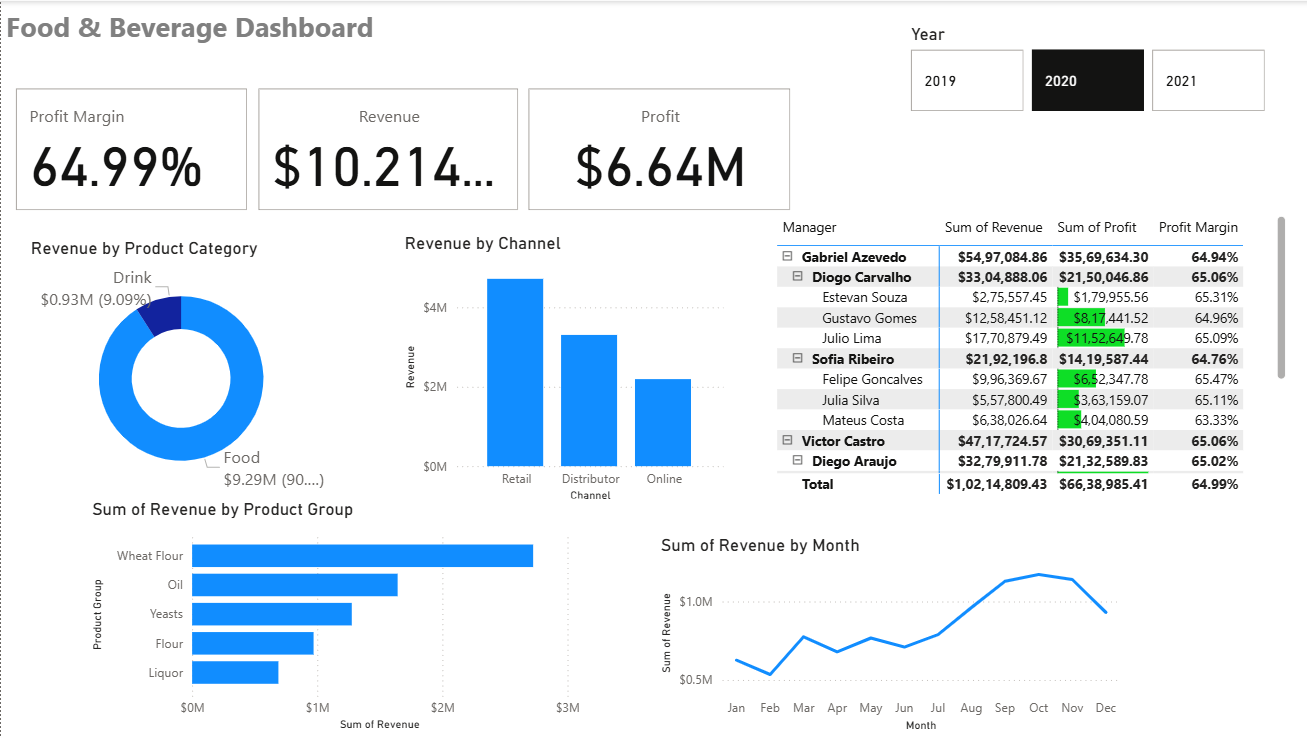

Layout of this report page (visuals, bound fields, positions):
{"tool":"powerbi","page":{"name":"Page 1","canvas":[1280,720],"ordinal":0},"visuals":[{"type":"cardVisual","fields":{"Data":["Sum(Sales.Revenue)"]},"box":[246.8,80.5,264.9,129.9],"z":0},{"type":"cardVisual","fields":{"Data":["Sum(Sales.Profit)"]},"box":[511.7,80.5,266.2,129.9],"z":1000},{"type":"donutChart","fields":{"Category":["Products.Product Category"],"Y":["Sum(Sales.Revenue)"]},"box":[24.7,231.2,303.9,255.8],"z":2000},{"type":"clusteredColumnChart","fields":{"Category":["Personnel.Channel"],"Y":["Sum(Sales.Revenue)"]},"box":[389.6,226,322.1,268.8],"z":3000},{"type":"barChart","fields":{"Category":["Products.Product Group"],"Y":["Sum(Sales.Revenue)"]},"box":[84.4,487,487,232.5],"z":4000},{"type":"textbox","box":[0,1.3,400,66.2],"z":5000},{"type":"advancedSlicerVisual","fields":{"Values":["Date.Year"]},"box":[885.7,22.1,358.4,90.9],"z":6000},{"type":"lineChart","fields":{"Category":["Date.Month"],"Y":["Sum(Sales.Revenue)"]},"box":[640.3,522.1,458.4,197.4],"z":7000},{"type":"cardVisual","fields":{"Data":["Date.Profit Margin"]},"box":[10.4,80.5,236.4,129.9],"z":7001},{"type":"pivotTable","fields":{"Rows":["Personnel.Manager","Personnel.Supervisor","Personnel.Sales Person"],"Values":["Sum(Sales.Revenue)","Sum(Sales.Profit)","Date.Profit Margin"]},"box":[754.5,205.2,507.8,281.8],"z":7002}]}

Visuals, with their boxes in screenshot pixels (x1, y1, x2, y2), scaled from the page's 1280x720 canvas onto the 1307x737 screenshot:
cardVisual - Sum(Sales.Revenue): (left=252, top=82, right=522, bottom=215)
cardVisual - Sum(Sales.Profit): (left=522, top=82, right=794, bottom=215)
donutChart - Products.Product Category x Sum(Sales.Revenue): (left=25, top=237, right=336, bottom=498)
clusteredColumnChart - Personnel.Channel x Sum(Sales.Revenue): (left=398, top=231, right=727, bottom=506)
barChart - Products.Product Group x Sum(Sales.Revenue): (left=86, top=498, right=583, bottom=736)
textbox: (left=0, top=1, right=408, bottom=69)
advancedSlicerVisual - Date.Year: (left=904, top=23, right=1270, bottom=116)
lineChart - Date.Month x Sum(Sales.Revenue): (left=654, top=534, right=1122, bottom=736)
cardVisual - Date.Profit Margin: (left=11, top=82, right=252, bottom=215)
pivotTable - Personnel.Manager x Personnel.Supervisor: (left=770, top=210, right=1289, bottom=498)
